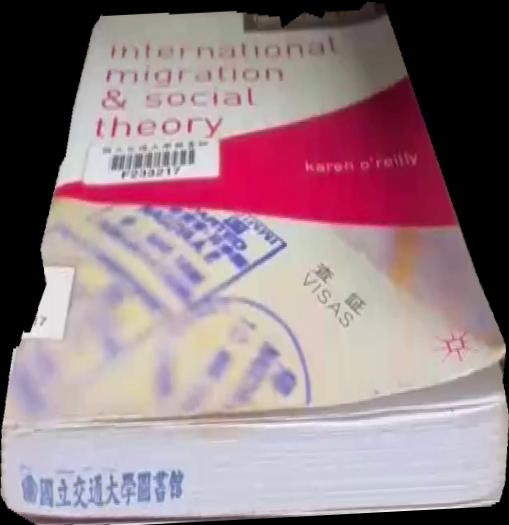flat: (1, 1, 509, 525)
